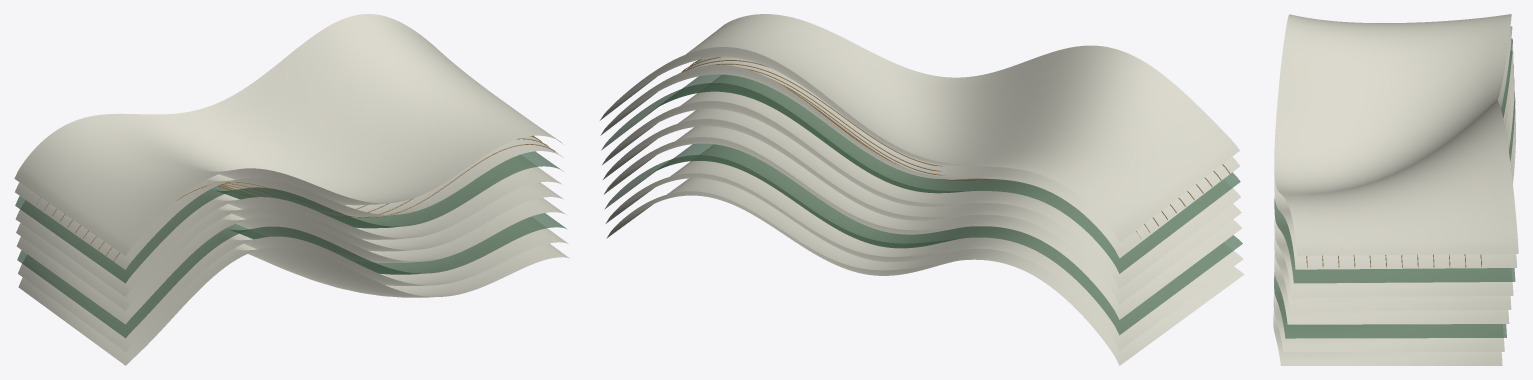
The model's file is context-loom.glb.
The picture shows the model from 3 angles, left to right: view 1: azimuth 30°, elevation 25°; view 2: azimuth 150°, elevation 25°; view 3: azimuth 270°, elevation 25°; orthographic projection. The views are drawn at different scales.
Parts seen in each view (by area): view 1: Context leaf 08, Context leaf 01, Context leaf 05, Context leaf 00, Context leaf 03, Context leaf 07, Context leaf 02, Context leaf 04, Context leaf 06, Bronze contour 01; view 2: Context leaf 08, Context leaf 05, Context leaf 01, Context leaf 06, Context leaf 04, Context leaf 03, Context leaf 02, Context leaf 07, Context leaf 00; view 3: Context leaf 08, Context leaf 05, Context leaf 01, Context leaf 07, Context leaf 06, Context leaf 04, Context leaf 03, Context leaf 02, Context leaf 00.
Part boxes in pixels (x1=…): Context leaf 08: x1=14, y1=14, x2=563, y2=256; Context leaf 01: x1=18, y1=217, x2=568, y2=351; Context leaf 05: x1=15, y1=155, x2=562, y2=296; Context leaf 00: x1=18, y1=243, x2=569, y2=365; Context leaf 03: x1=16, y1=197, x2=565, y2=324; Context leaf 07: x1=15, y1=136, x2=563, y2=269; Context leaf 02: x1=17, y1=213, x2=567, y2=338; Context leaf 04: x1=16, y1=182, x2=563, y2=310; Context leaf 06: x1=15, y1=151, x2=563, y2=283; Bronze contour 01: x1=113, y1=144, x2=556, y2=261; Context leaf 08: x1=600, y1=14, x2=1239, y2=242; Context leaf 05: x1=602, y1=75, x2=1240, y2=289; Context leaf 01: x1=605, y1=144, x2=1243, y2=350; Context leaf 06: x1=601, y1=74, x2=1240, y2=273; Context leaf 04: x1=603, y1=109, x2=1241, y2=304; Context leaf 03: x1=603, y1=126, x2=1242, y2=319; Context leaf 02: x1=604, y1=143, x2=1242, y2=335; Context leaf 07: x1=600, y1=57, x2=1239, y2=258; Context leaf 00: x1=606, y1=178, x2=1244, y2=365; Context leaf 08: x1=1274, y1=14, x2=1518, y2=255; Context leaf 05: x1=1274, y1=50, x2=1513, y2=297; Context leaf 01: x1=1273, y1=101, x2=1515, y2=352; Context leaf 07: x1=1274, y1=26, x2=1517, y2=269; Context leaf 06: x1=1274, y1=38, x2=1515, y2=283; Context leaf 04: x1=1274, y1=63, x2=1513, y2=310; Context leaf 03: x1=1274, y1=77, x2=1514, y2=324; Context leaf 02: x1=1274, y1=92, x2=1515, y2=338; Context leaf 00: x1=1273, y1=122, x2=1515, y2=365.
Size of the model in its own units: 5.04 by 2.27 by 2.33.
